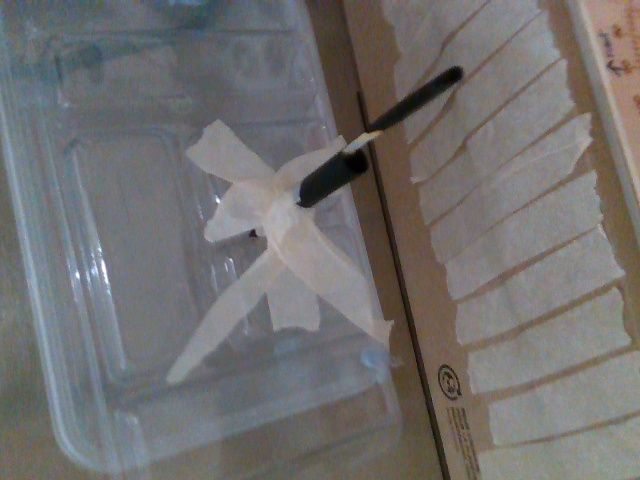test_strip: (340, 63, 463, 155)
